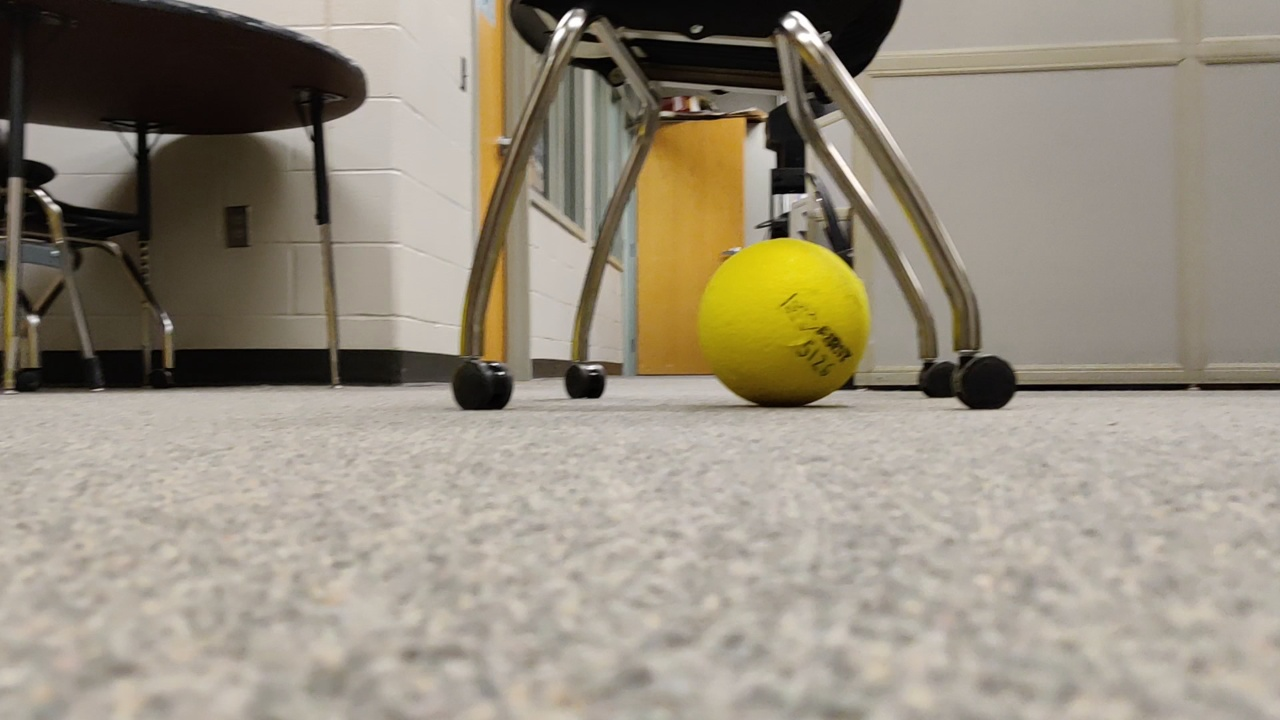Ball: (700, 236, 872, 412)
